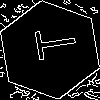T: (25, 25, 78, 63)
